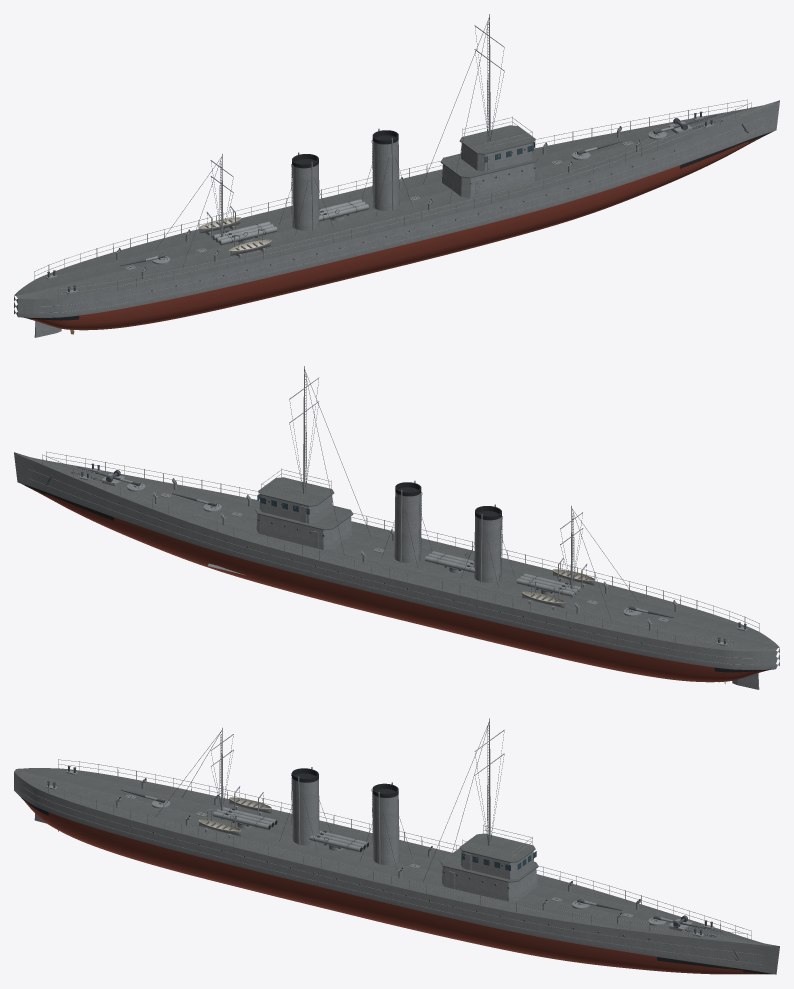
Rendered from fallback-de.glb.
The picture shows the model from 3 angles, top to bottom: view 1: azimuth 30°, elevation 25°; view 2: azimuth 150°, elevation 25°; view 3: azimuth 330°, elevation 25°; orthographic projection.
Parts seen in each view (by area): view 1: Original DE custom-design concept; view 2: Original DE custom-design concept; view 3: Original DE custom-design concept.
Part boxes in pixels (bbox=[...]): Original DE custom-design concept: bbox=[14, 14, 779, 337]; Original DE custom-design concept: bbox=[14, 366, 779, 689]; Original DE custom-design concept: bbox=[14, 718, 779, 974].
Size of the model in its own units: 86 by 23.12 by 9.69.
Materials: 8 (2 with a texture image).
